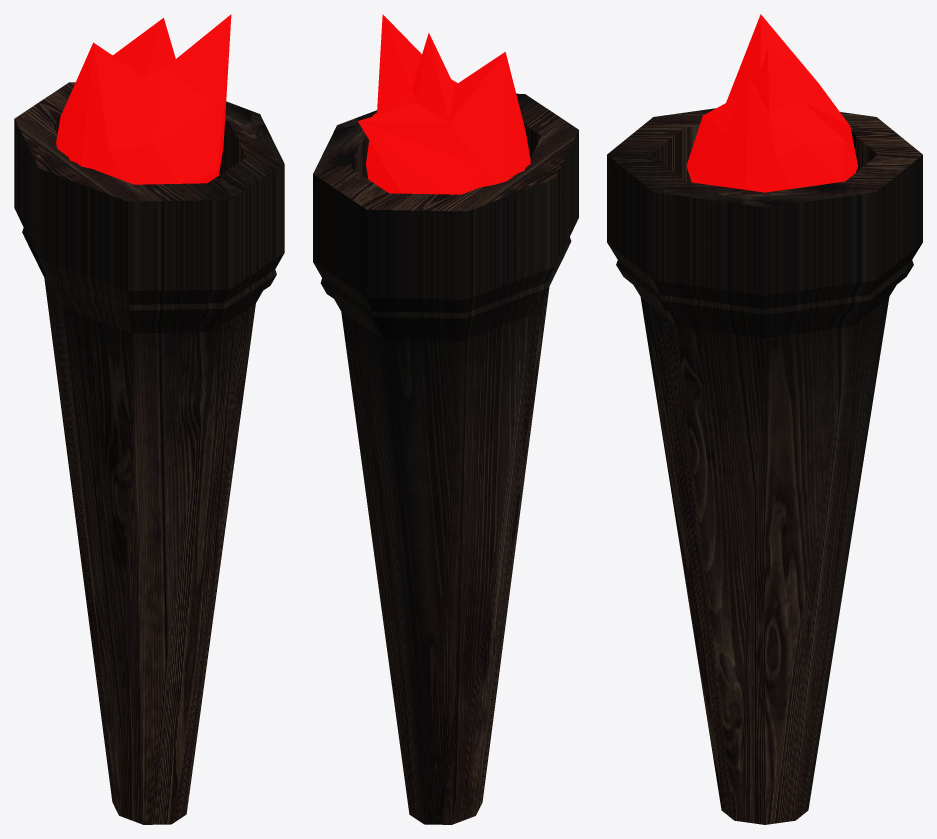
The model's file is Torch.glb.
The picture shows the model from 3 angles, left to right: view 1: azimuth 30°, elevation 25°; view 2: azimuth 150°, elevation 25°; view 3: azimuth 270°, elevation 25°; orthographic projection.
Visible parts, largest first — view 1: Cylinder, Icosphere; view 2: Cylinder, Icosphere; view 3: Cylinder, Icosphere.
Part boxes in pixels (x1,y1,x2,y2): Cylinder: [14, 82, 284, 824]; Icosphere: [56, 14, 231, 184]; Cylinder: [313, 93, 578, 824]; Icosphere: [358, 14, 530, 194]; Cylinder: [607, 108, 922, 824]; Icosphere: [686, 14, 857, 192].
Size of the model in its own units: 0.0886 by 0.3006 by 0.1114.
Materials: 2 (1 with a texture image).
